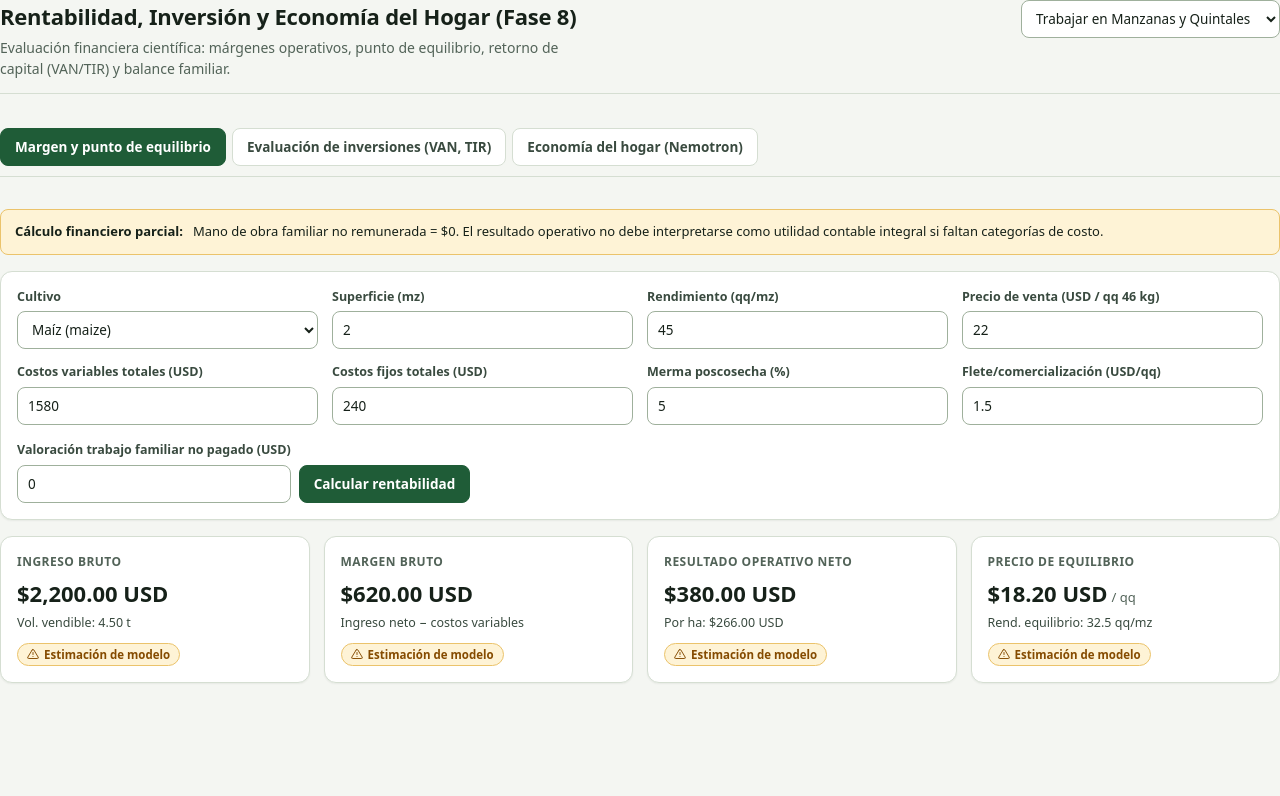
Territory, Monitoring, Markets, and Risks workflows › evaluates investment NPV and household economy in ProfitabilityPage tabs
Expected: the text "Ingreso bruto" is shown, [17,553,122,570]
# Switch to Investment tab
Click the tab "Evaluación de inversiones (VAN, TIR)": (369, 147) [232,128,506,166]
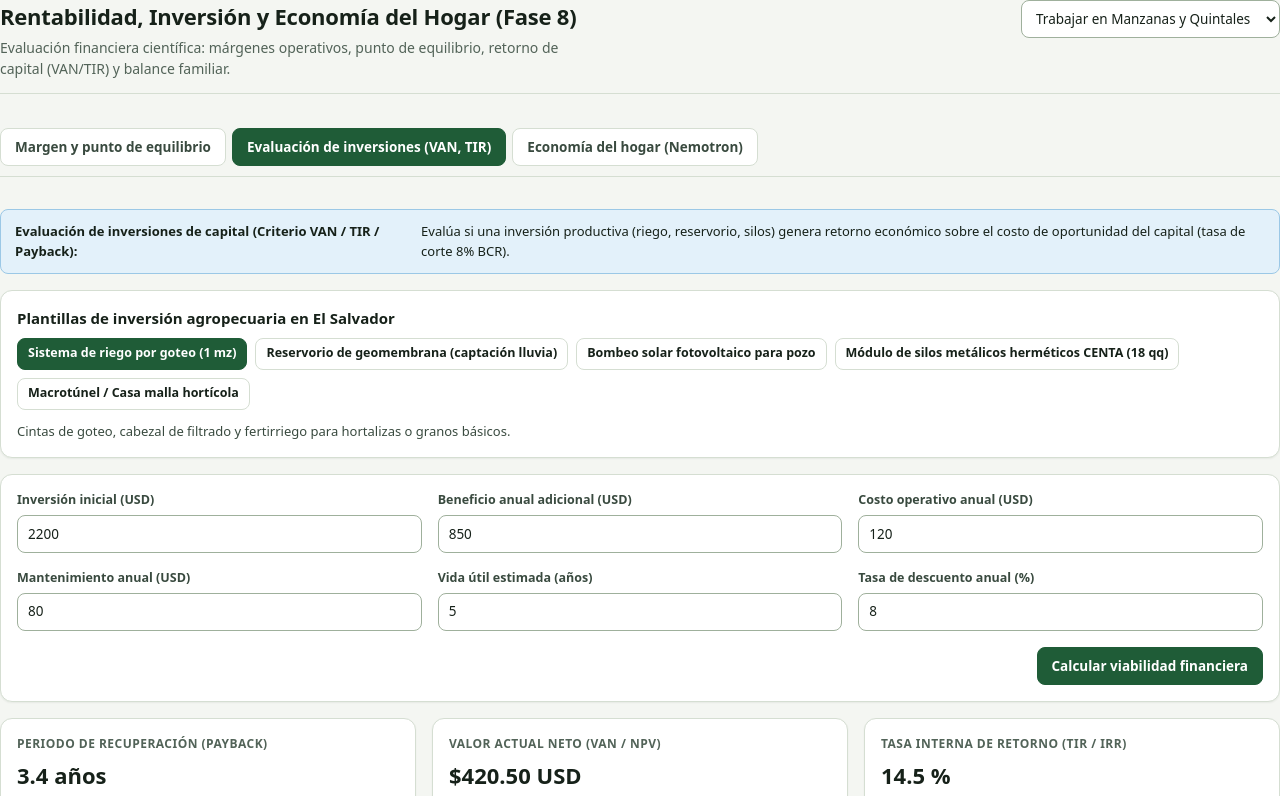
Now the text "Periodo de recuperación (Payback)" is shown, box [17,735,268,752]
Now the text "Valor Actual Neto (VAN / NPV)" is shown, box [449,735,661,752]
Now the text "Tasa Interna de Retorno (TIR / IRR)" is shown, box [881,735,1127,752]
# Switch to Household economy tab
Click the tab "Economía del hogar (Nemotron)": (635, 147) [512,128,758,166]
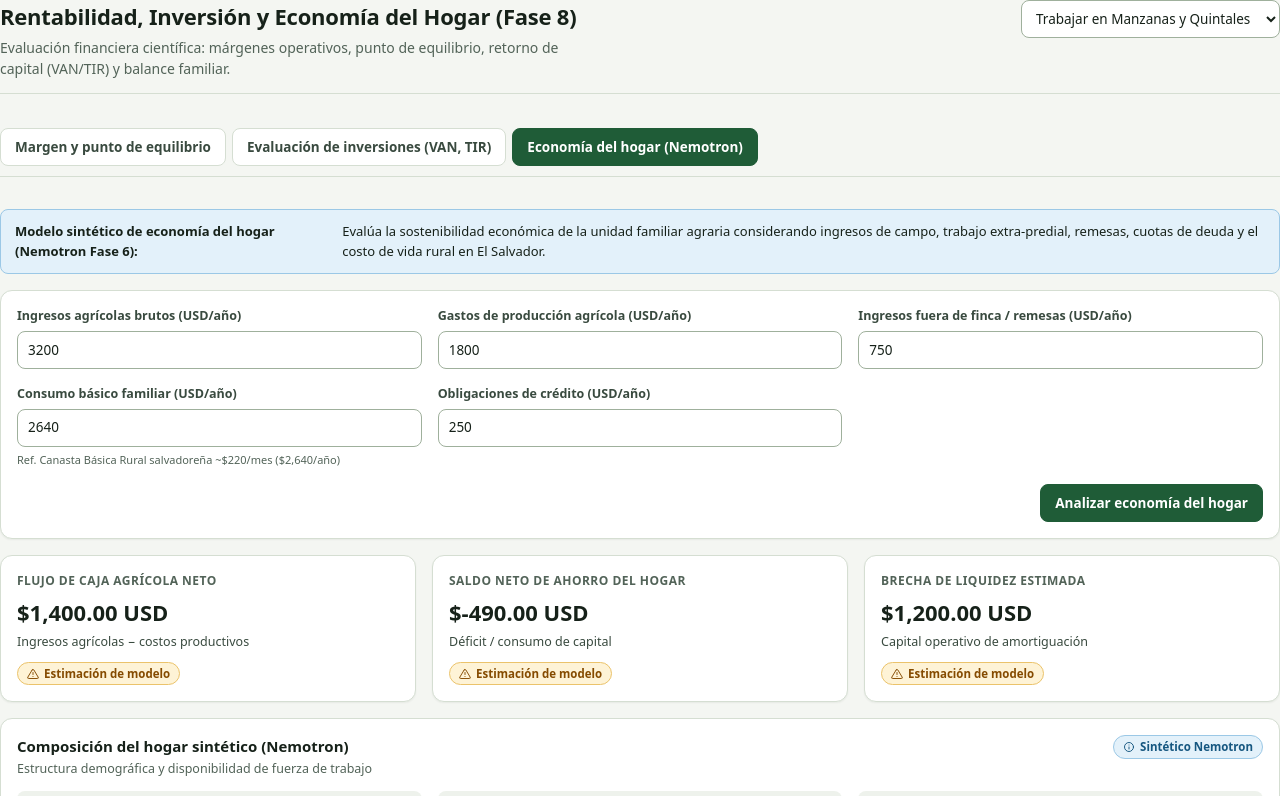
Now the text "Flujo de caja agrícola neto" is shown, box [17,572,217,589]
Now the heading "Composición del hogar sintético (Nemotron)" is shown, box [17,735,372,758]
